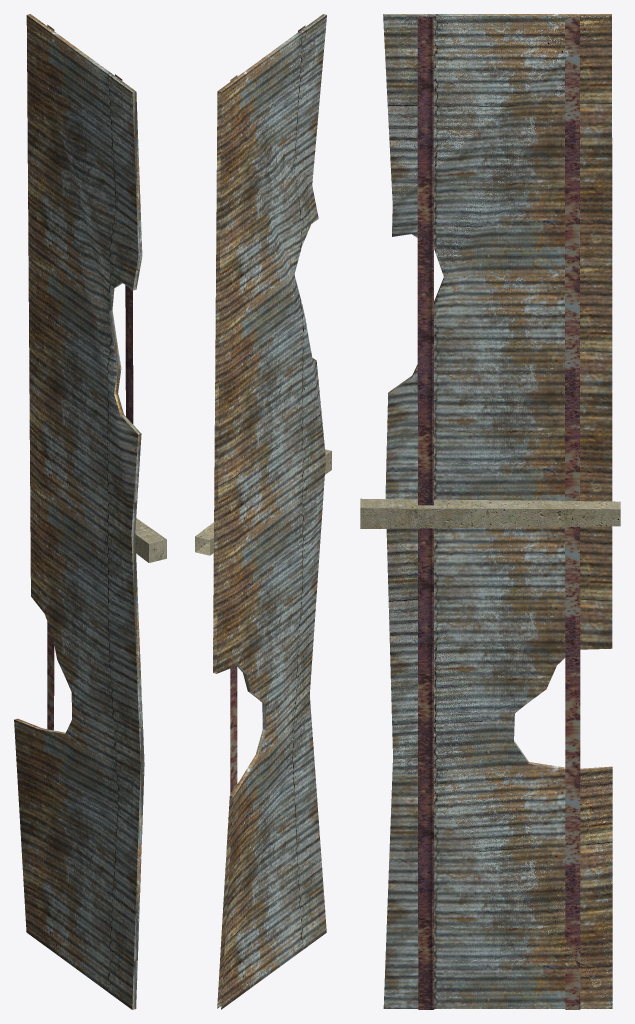
Rendered from zaun_blech_loch.obj.
3 renders of one model, left to right at view 1: azimuth 30°, elevation 25°; view 2: azimuth 150°, elevation 25°; view 3: azimuth 270°, elevation 25°, orthographic. The views are drawn at different scales.
Parts seen in each view (by area): view 1: Object041; view 2: Object041; view 3: Object041.
Part boxes in pixels (<box>): Object041: <box>14,14,166,1009</box>; Object041: <box>195,14,331,1009</box>; Object041: <box>360,14,620,1009</box>.
Size of the model in its own units: 0.6339 by 15.28 by 3.63.
Materials: 3 (3 with a texture image).
